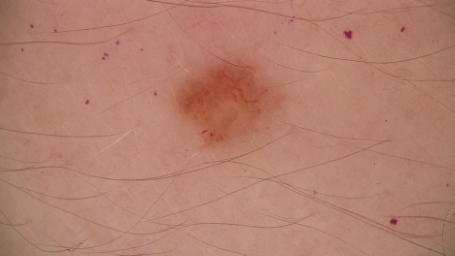nevus: (182, 70, 258, 133)
